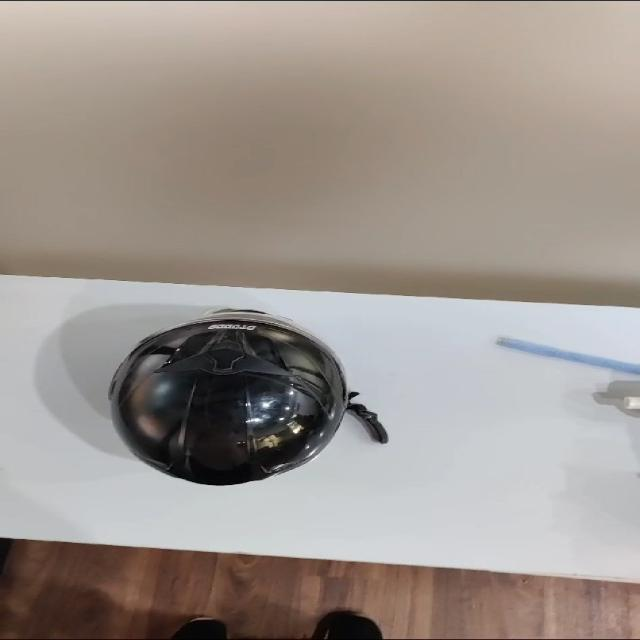helmet: (100, 314, 360, 503)
